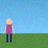person: (3, 19, 15, 42)
